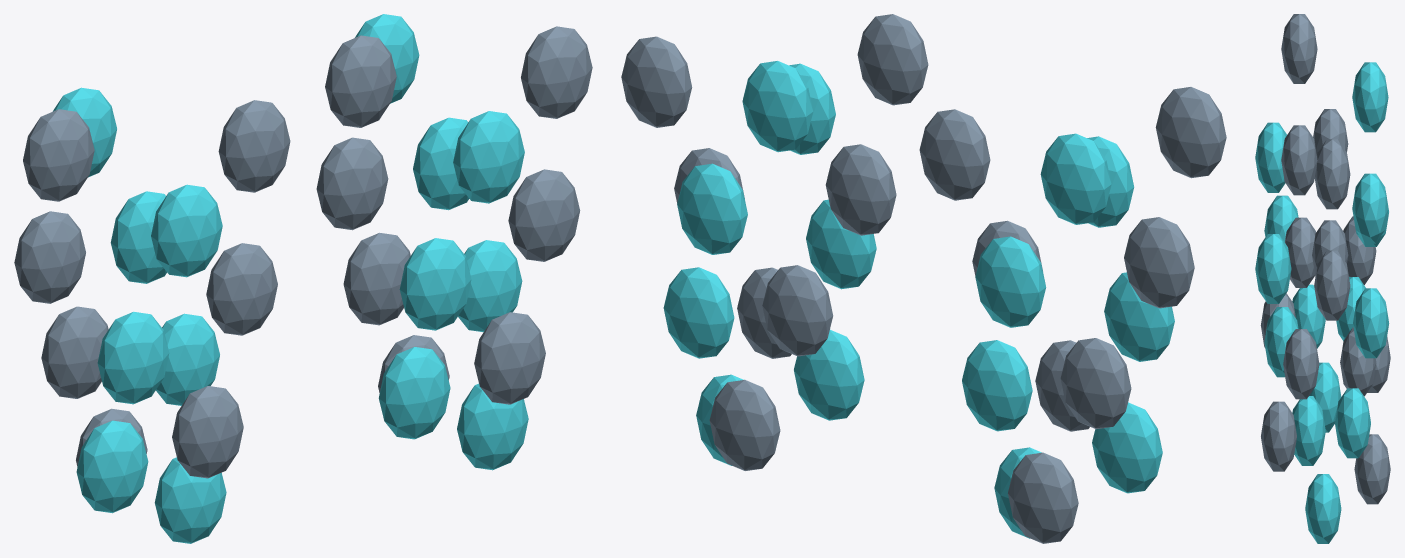
Rendered from swarm_v3.glb.
3 views of the same model, side by side, from view 1: azimuth 30°, elevation 25°; view 2: azimuth 150°, elevation 25°; view 3: azimuth 270°, elevation 25° (orthographic). The views are drawn at different scales.
Visible parts, largest first — view 1: SWARM_CREATURE_PRIMARY.006, SWARM_CREATURE_PRIMARY.003, SWARM_CREATURE_PRIMARY.005, SWARM_CREATURE_ACCENT.010, SWARM_CREATURE_PRIMARY.010, SWARM_CREATURE_ACCENT.012, SWARM_CREATURE_PRIMARY.004, SWARM_CREATURE_ACCENT.008, SWARM_CREATURE_PRIMARY.008, SWARM_CREATURE_ACCENT.001, SWARM_CREATURE_ACCENT.003, SWARM_CREATURE_ACCENT.005 (+16 smaller); view 2: SWARM_CREATURE_ACCENT.004, SWARM_CREATURE_PRIMARY.005, SWARM_CREATURE_PRIMARY.002, SWARM_CREATURE_PRIMARY.011, SWARM_CREATURE_PRIMARY, SWARM_CREATURE_ACCENT.009, SWARM_CREATURE_ACCENT.011, SWARM_CREATURE_PRIMARY.009, SWARM_CREATURE_PRIMARY.012, SWARM_CREATURE_PRIMARY.007, SWARM_CREATURE_ACCENT.002, SWARM_CREATURE_ACCENT.006 (+16 smaller); view 3: SWARM_CREATURE_ACCENT.006, SWARM_CREATURE_ACCENT.013, SWARM_CREATURE_PRIMARY.013, SWARM_CREATURE_ACCENT.009, SWARM_CREATURE_PRIMARY.012, SWARM_CREATURE_PRIMARY.010, SWARM_CREATURE_PRIMARY.008, SWARM_CREATURE_ACCENT.011, SWARM_CREATURE_PRIMARY.006, SWARM_CREATURE_ACCENT.012, SWARM_CREATURE_ACCENT.007, SWARM_CREATURE_PRIMARY.005 (+15 smaller).
Part boxes in pixels (x1,y1,x2,y2): SWARM_CREATURE_PRIMARY.006: (23, 109, 94, 201); SWARM_CREATURE_PRIMARY.003: (206, 243, 277, 335); SWARM_CREATURE_PRIMARY.005: (218, 100, 290, 192); SWARM_CREATURE_ACCENT.010: (399, 238, 471, 330); SWARM_CREATURE_PRIMARY.010: (508, 169, 580, 261); SWARM_CREATURE_ACCENT.012: (453, 111, 524, 203); SWARM_CREATURE_PRIMARY.004: (14, 211, 85, 303); SWARM_CREATURE_ACCENT.008: (378, 347, 450, 439); SWARM_CREATURE_PRIMARY.008: (474, 312, 545, 404); SWARM_CREATURE_ACCENT.001: (76, 420, 148, 513); SWARM_CREATURE_ACCENT.003: (97, 311, 169, 404); SWARM_CREATURE_ACCENT.005: (151, 184, 222, 277); SWARM_CREATURE_ACCENT.004: (975, 236, 1046, 327); SWARM_CREATURE_PRIMARY.005: (919, 109, 990, 200); SWARM_CREATURE_PRIMARY.002: (1060, 338, 1131, 429); SWARM_CREATURE_PRIMARY.011: (825, 144, 896, 235); SWARM_CREATURE_PRIMARY: (1008, 452, 1078, 543); SWARM_CREATURE_ACCENT.009: (663, 267, 734, 358); SWARM_CREATURE_ACCENT.011: (677, 163, 747, 254); SWARM_CREATURE_PRIMARY.009: (762, 265, 833, 356); SWARM_CREATURE_PRIMARY.012: (621, 36, 692, 127); SWARM_CREATURE_PRIMARY.007: (709, 379, 780, 470); SWARM_CREATURE_ACCENT.002: (962, 340, 1032, 431); SWARM_CREATURE_ACCENT.006: (1040, 133, 1111, 224); SWARM_CREATURE_ACCENT.006: (1352, 62, 1388, 132); SWARM_CREATURE_ACCENT.013: (1352, 173, 1388, 243); SWARM_CREATURE_PRIMARY.013: (1281, 125, 1317, 195); SWARM_CREATURE_ACCENT.009: (1335, 388, 1370, 458); SWARM_CREATURE_PRIMARY.012: (1314, 250, 1350, 320); SWARM_CREATURE_PRIMARY.010: (1283, 329, 1319, 399); SWARM_CREATURE_PRIMARY.008: (1261, 401, 1296, 471); SWARM_CREATURE_ACCENT.011: (1353, 288, 1389, 358); SWARM_CREATURE_PRIMARY.006: (1281, 14, 1317, 83); SWARM_CREATURE_ACCENT.012: (1255, 234, 1291, 303); SWARM_CREATURE_ACCENT.007: (1305, 474, 1341, 543); SWARM_CREATURE_PRIMARY.005: (1314, 139, 1350, 209).
Bounding box in the file's own units: 2.24 × 1.77 × 0.5972.
